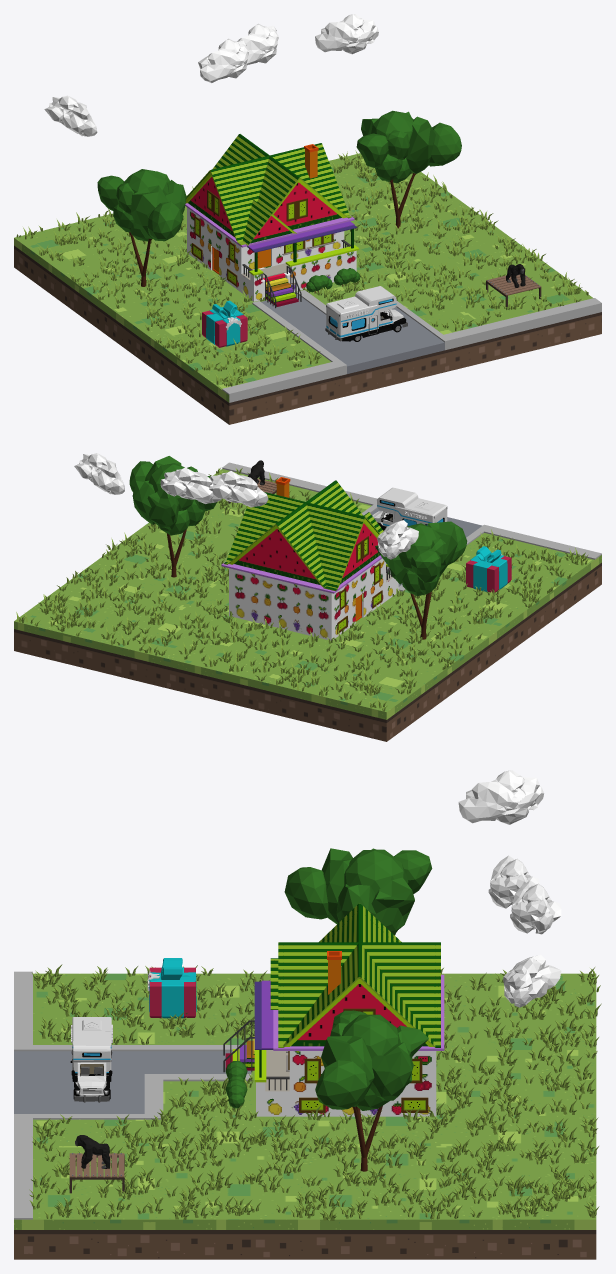
The picture shows the model from 3 angles, top to bottom: view 1: azimuth 30°, elevation 25°; view 2: azimuth 150°, elevation 25°; view 3: azimuth 270°, elevation 25°; orthographic projection. The views are drawn at different scales.
Parts seen in each view (by area): view 1: Cube.006, Cube.1063, Circle.012_Grass_0.192, Cube.007, tree, tree.001, VEHICLES_CAMPER, OBJRANDOM_GIANT_PRESENT, Cube.009; view 2: Cube.006, Cube.1063, Circle.012_Grass_0.192, Cube.007, tree.001, tree, VEHICLES_CAMPER, OBJRANDOM_GIANT_PRESENT; view 3: Cube.006, Circle.012_Grass_0.192, Cube.1063, tree, Cube.007, tree.001, VEHICLES_CAMPER, OBJRANDOM_GIANT_PRESENT, Cube.009, ANIMAL_GORILA.
Part boxes in pixels (left/top/right/bottom): Cube.006: left=14, top=153, right=601, bottom=424; Cube.1063: left=185, top=134, right=359, bottom=308; Circle.012_Grass_0.192: left=16, top=150, right=588, bottom=386; Cube.007: left=44, top=14, right=378, bottom=136; tree: left=356, top=110, right=461, bottom=228; tree.001: left=97, top=169, right=186, bottom=286; VEHICLES_CAMPER: left=325, top=286, right=407, bottom=341; OBJRANDOM_GIANT_PRESENT: left=202, top=300, right=247, bottom=347; Cube.009: left=486, top=274, right=541, bottom=306; Cube.006: left=14, top=462, right=601, bottom=741; Cube.1063: left=221, top=477, right=398, bottom=640; Circle.012_Grass_0.192: left=16, top=468, right=588, bottom=711; Cube.007: left=74, top=453, right=418, bottom=559; tree.001: left=375, top=521, right=467, bottom=639; tree: left=129, top=456, right=216, bottom=577; VEHICLES_CAMPER: left=372, top=487, right=447, bottom=530; OBJRANDOM_GIANT_PRESENT: left=466, top=546, right=511, bottom=592; Cube.006: left=14, top=971, right=596, bottom=1259; Circle.012_Grass_0.192: left=29, top=964, right=601, bottom=1220; Cube.1063: left=223, top=903, right=444, bottom=1116; tree: left=315, top=1010, right=428, bottom=1171; Cube.007: left=458, top=770, right=561, bottom=1007; tree.001: left=284, top=848, right=432, bottom=935; VEHICLES_CAMPER: left=70, top=1017, right=112, bottom=1102; OBJRANDOM_GIANT_PRESENT: left=147, top=958, right=196, bottom=1018; Cube.009: left=69, top=1153, right=124, bottom=1193; ANIMAL_GORILA: left=75, top=1135, right=109, bottom=1168.
Size of the model in its own units: 4071 by 2192 by 4040.
33 materials, 5 textured.
